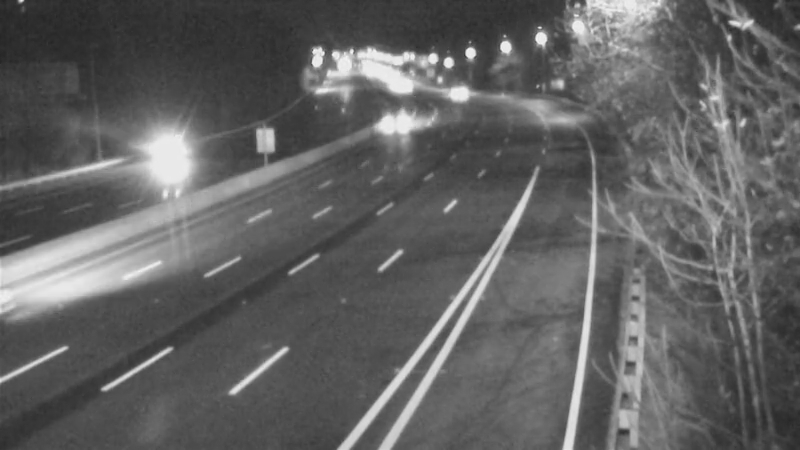vehicle: (124, 117, 204, 197), (435, 68, 485, 118), (376, 97, 426, 147)
